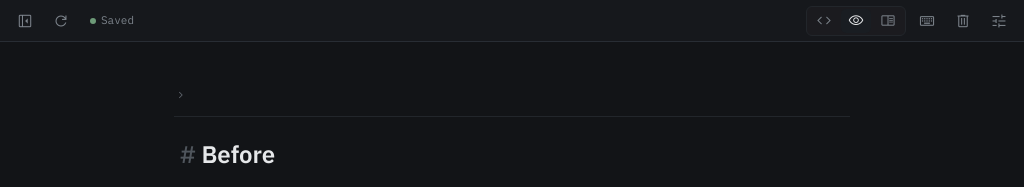
Test case: MarkdownEditor reload › shows what the file says now, not what it said when it was opened
Click the button named "Reload from disk": (61, 20) [46,6,76,36]
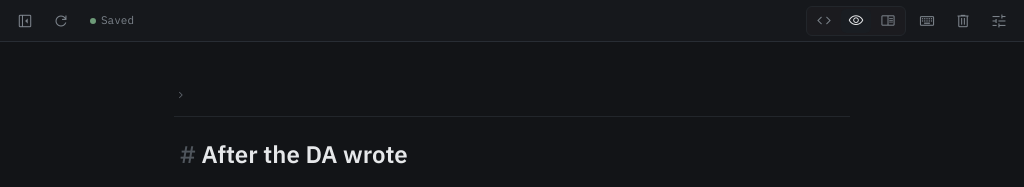
Check: the text "After the DA wrote" is shown, box [196,138,408,170]
